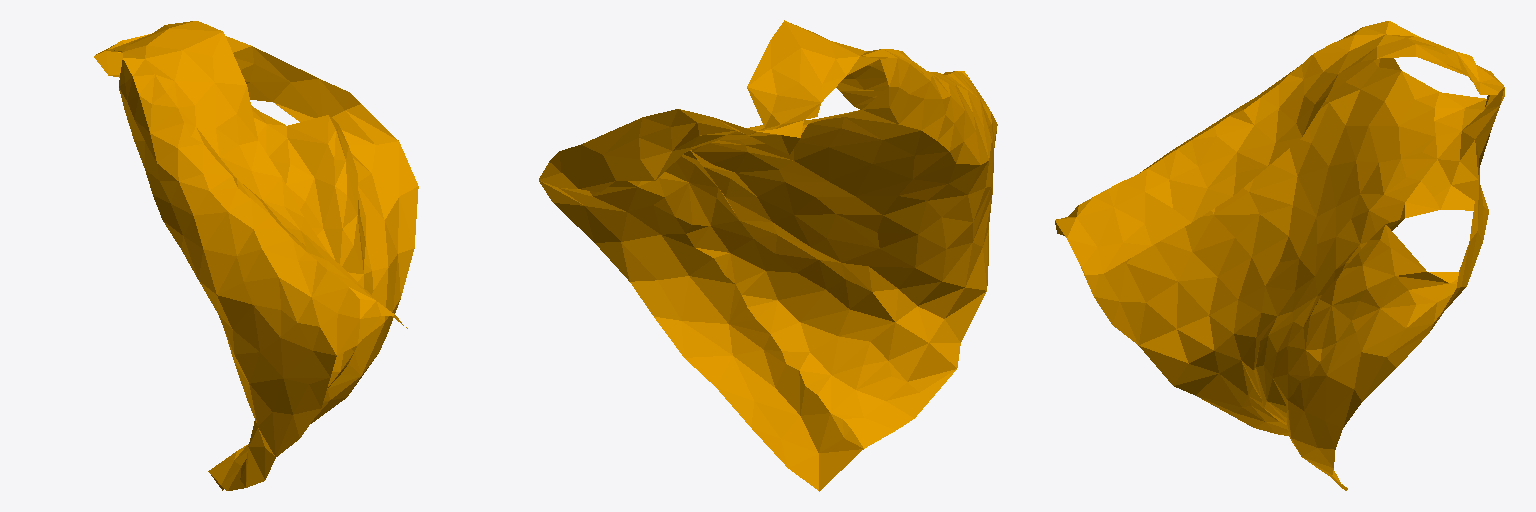
robot.urdf — init:
<?xml version='1.0' encoding='utf-8'?>
<robot name="init">
<link name="link_0"><inertial><mass value="1.0" /><origin rpy="0 0 0" xyz="0.000000 0.000000 0.000000" /><inertia ixx="1.0" ixy="0.0" ixz="0.0" iyy="1.0" iyz="0.0" izz="1.0" /></inertial><visual><origin rpy="0 0 0" xyz="0.000000 0.000000 0.000000" /><geometry><mesh filename="./clothHuman/cloth/1563.obj" /></geometry></visual><collision><origin rpy="0 0 0" xyz="0.000000 0.000000 0.000000" /><geometry><mesh filename="./clothHuman/cloth/1563.obj" /></geometry></collision></link></robot>

--- Render facts (derived) ---
3 views of the same robot in one strip: view 1: azimuth 30°, elevation 25°; view 2: azimuth 150°, elevation 25°; view 3: azimuth 270°, elevation 25° (orthographic).
Model init with 1 links and 0 joints (none), rooted at link_0, posed all joints at 0.
Visible links, largest first — view 1: link_0; view 2: link_0; view 3: link_0.
Boxes of the visible links, box(x1,y1,x2,y2) form: link_0: box(94, 21, 418, 490); link_0: box(539, 20, 997, 491); link_0: box(1055, 21, 1504, 490).
Size in the robot's own frame: 2.73 by 3.44 by 3.71 metres.
1 mesh visuals loaded from 1 distinct referenced files (1 OBJ).